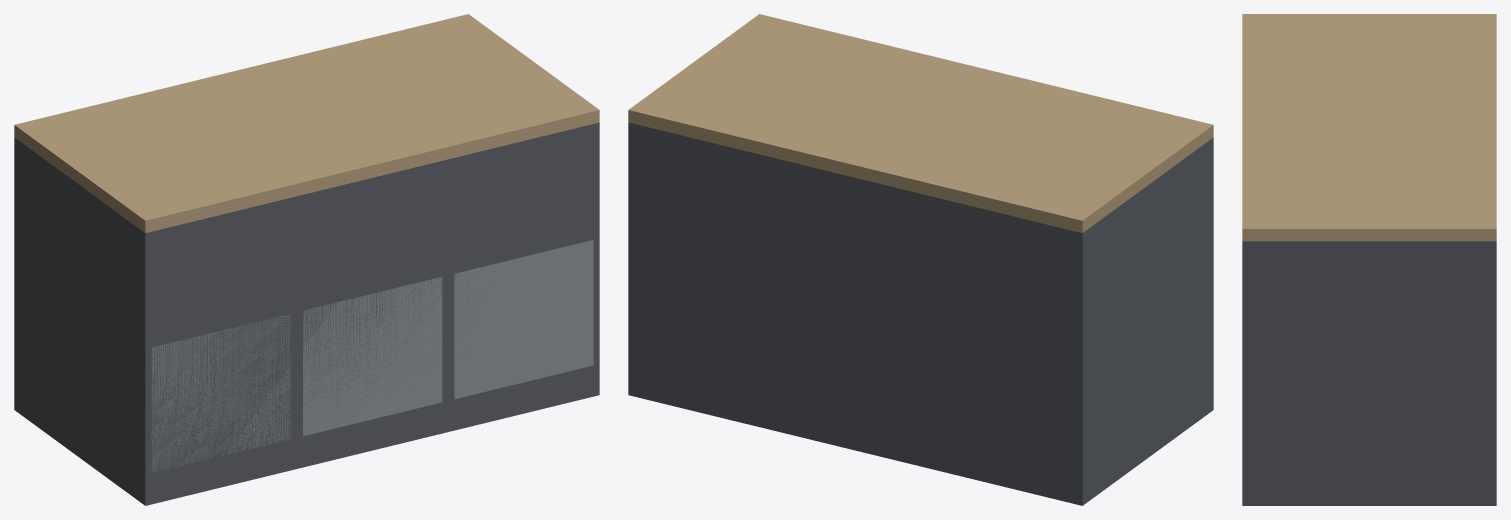
File: counter_service_cooler_60.glb
3 renders of one model, left to right at view 1: azimuth 30°, elevation 25°; view 2: azimuth 150°, elevation 25°; view 3: azimuth 270°, elevation 25°, orthographic. The views are drawn at different scales.
Size of the model in its own units: 1.52 by 0.9144 by 0.762.
